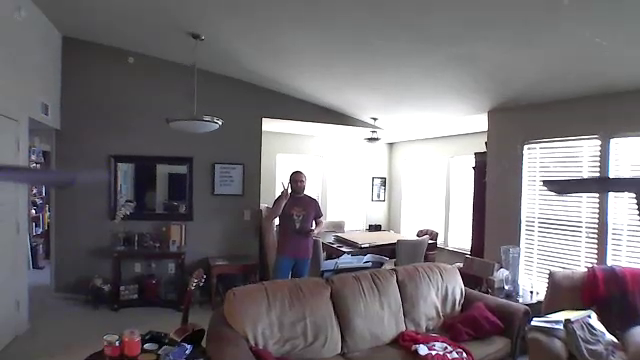peace: (274, 175, 293, 202)
